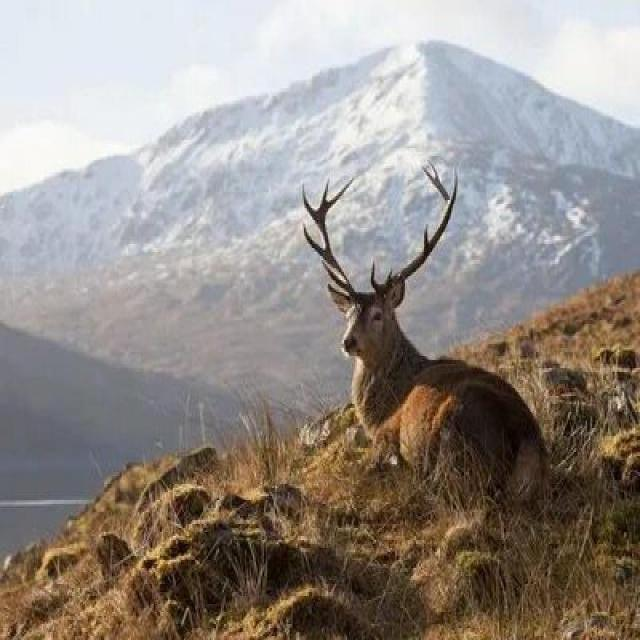deer: (250, 168, 598, 576)
